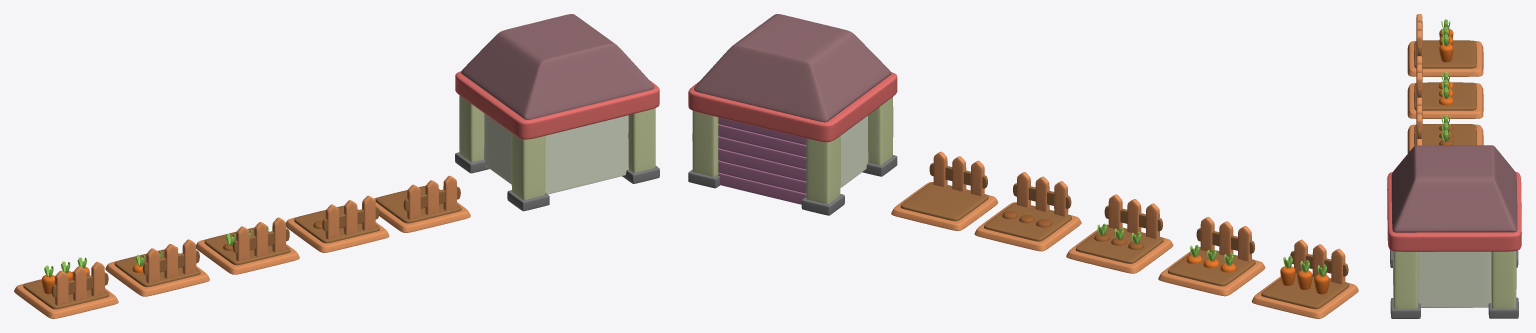
File: base-crops-storage.glb
3 views of the same model, side by side, from view 1: azimuth 30°, elevation 25°; view 2: azimuth 150°, elevation 25°; view 3: azimuth 270°, elevation 25° (orthographic). The views are drawn at different scales.
Visible parts, largest first — view 1: ofpart_5_46, ofpart_5_49, ofpart_5_48, ofpart_5_47, ofpart_1_51, ofpart_3_59, ofpart_4_63, ofpart_5_45, ofpart_2_55, ofpart_0_41, ofpart_3_61, ofpart_1_53 (+8 smaller); view 2: ofpart_5_46, ofpart_5_44, ofpart_5_48, ofpart_5_47, ofpart_0_42, ofpart_1_52, ofpart_2_56, ofpart_3_60, ofpart_5_49, ofpart_4_64, ofpart_0_41, ofpart_2_55 (+10 smaller); view 3: ofpart_5_46, ofpart_5_49, ofpart_5_47, ofpart_5_48, ofpart_4_64, ofpart_3_60, ofpart_2_56, ofpart_3_61, ofpart_4_65, ofpart_5_45, ofpart_4_0, ofpart_2_57 (+5 smaller).
Part boxes in pixels (x1,y1,x2,y2): ofpart_5_46: [461, 14, 653, 119]; ofpart_5_49: [484, 113, 628, 194]; ofpart_5_48: [459, 95, 655, 199]; ofpart_5_47: [455, 71, 659, 139]; ofpart_1_51: [325, 195, 375, 239]; ofpart_3_59: [146, 239, 196, 283]; ofpart_4_63: [54, 261, 104, 305]; ofpart_5_45: [455, 152, 659, 211]; ofpart_2_55: [236, 217, 285, 261]; ofpart_0_41: [407, 175, 456, 219]; ofpart_3_61: [105, 252, 209, 296]; ofpart_1_53: [286, 209, 389, 252]; ofpart_5_46: [694, 14, 891, 122]; ofpart_5_44: [718, 117, 806, 204]; ofpart_5_48: [692, 97, 893, 204]; ofpart_5_47: [688, 72, 897, 142]; ofpart_0_42: [900, 182, 988, 221]; ofpart_1_52: [984, 202, 1071, 241]; ofpart_2_56: [1075, 225, 1163, 263]; ofpart_3_60: [1168, 247, 1255, 286]; ofpart_5_49: [840, 115, 868, 187]; ofpart_4_64: [1261, 273, 1349, 309]; ofpart_0_41: [933, 151, 984, 196]; ofpart_2_55: [1108, 194, 1159, 238]; ofpart_5_46: [1391, 145, 1517, 232]; ofpart_5_49: [1418, 251, 1491, 307]; ofpart_5_47: [1387, 171, 1521, 251]; ofpart_5_48: [1392, 251, 1516, 308]; ofpart_4_64: [1414, 40, 1476, 68]; ofpart_3_60: [1414, 82, 1476, 110]; ofpart_2_56: [1414, 124, 1476, 145]; ofpart_3_61: [1407, 83, 1483, 118]; ofpart_4_65: [1407, 41, 1483, 76]; ofpart_5_45: [1390, 250, 1518, 318]; ofpart_4_0: [1439, 28, 1453, 62]; ofpart_2_57: [1407, 124, 1483, 153].
Size of the model in its own units: 16.82 by 3.69 by 3.45.
